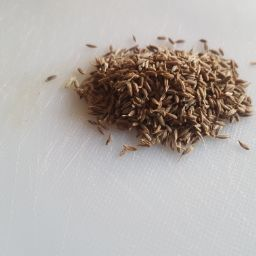Cumin (zeera): (68, 29, 253, 161), (119, 42, 244, 147), (50, 48, 171, 154), (90, 51, 232, 140)
